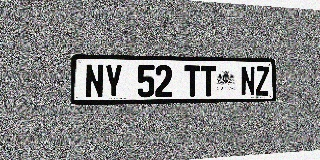2: (155, 65, 172, 97)
5: (137, 65, 155, 98)
N: (85, 64, 104, 98), (241, 66, 255, 96)
T: (184, 65, 200, 97), (201, 66, 216, 97)
Y: (105, 64, 123, 98)
Z: (255, 66, 269, 96)
